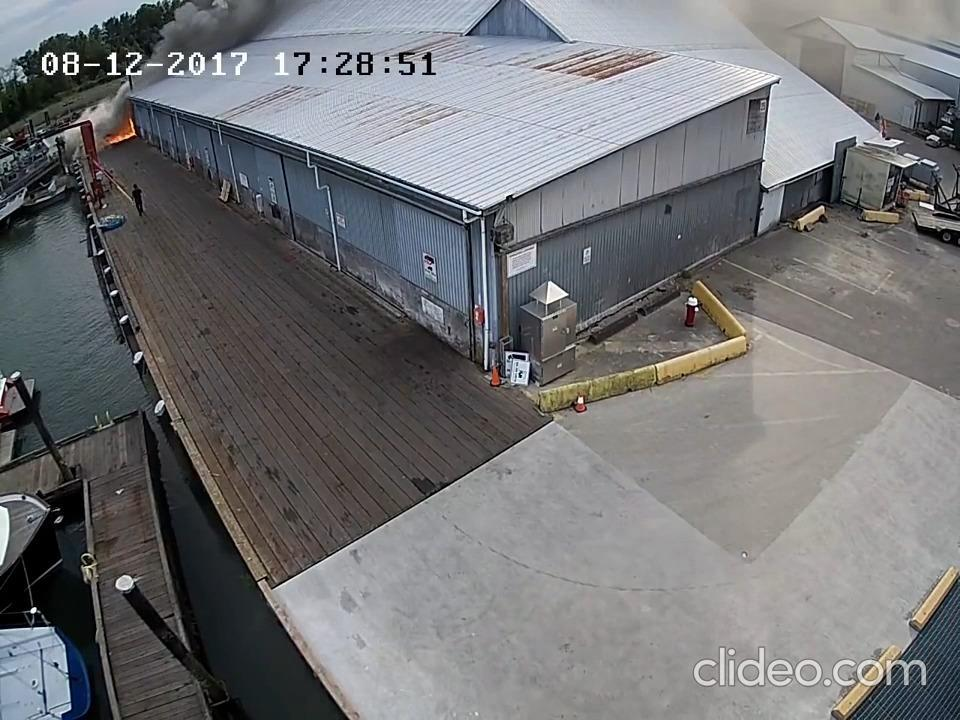fire: (105, 128, 139, 147), (125, 114, 139, 139)
